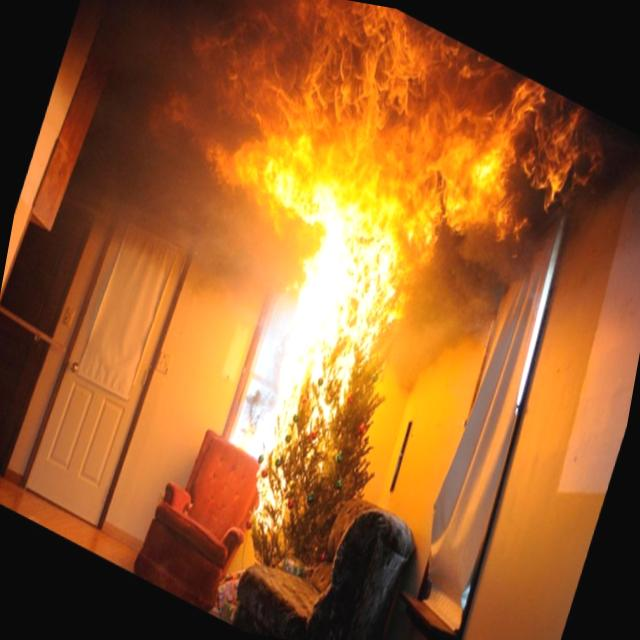fire: (37, 0, 609, 621)
